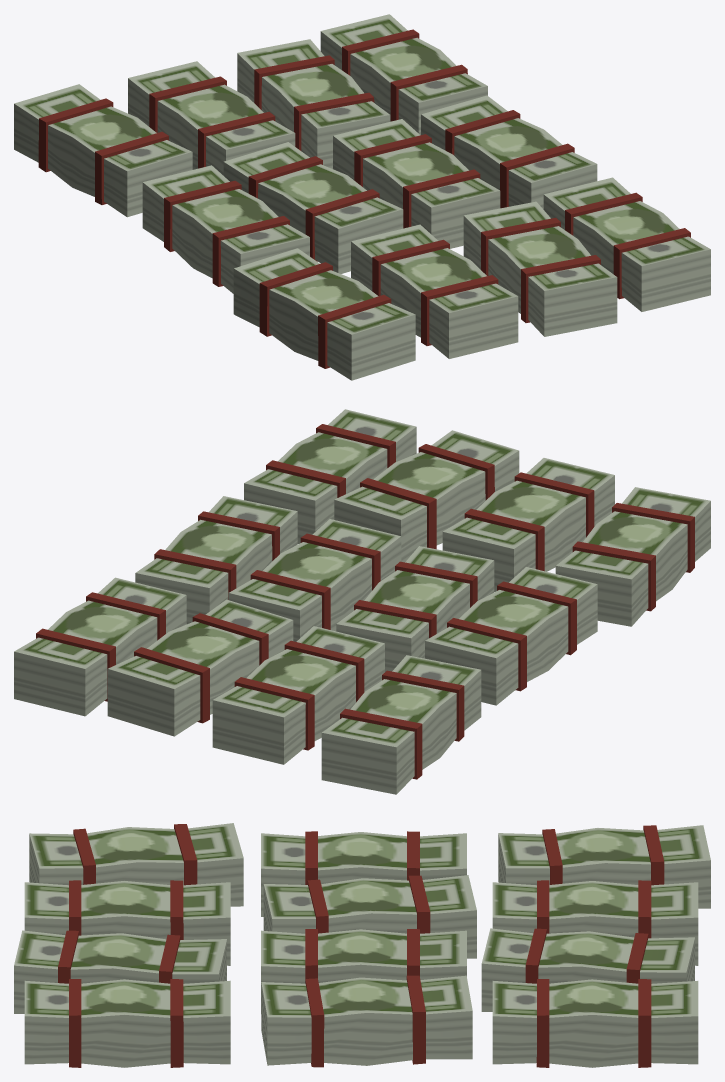
The model's file is SM_Prop_Money_Stack_02.fbx.
3 views of the same model, one above another, from view 1: azimuth 30°, elevation 25°; view 2: azimuth 150°, elevation 25°; view 3: azimuth 270°, elevation 25° (orthographic). The views are drawn at different scales.
Parts seen in each view (by area): view 1: SM_Prop_Money_Stack_02; view 2: SM_Prop_Money_Stack_02; view 3: SM_Prop_Money_Stack_02.
Part boxes in pixels (bbox=[...]): SM_Prop_Money_Stack_02: bbox=[14, 14, 710, 380]; SM_Prop_Money_Stack_02: bbox=[14, 409, 710, 794]; SM_Prop_Money_Stack_02: bbox=[14, 823, 710, 1067].
Bounding box in the file's own units: 61.1 × 7.77 × 92.61.
